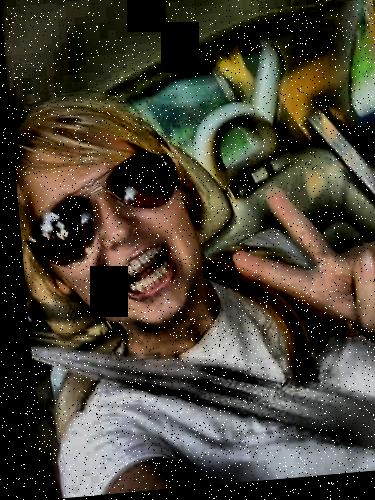seatbelt: (50, 309, 362, 465)
